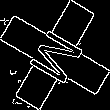M_SE: (21, 22, 89, 88)
